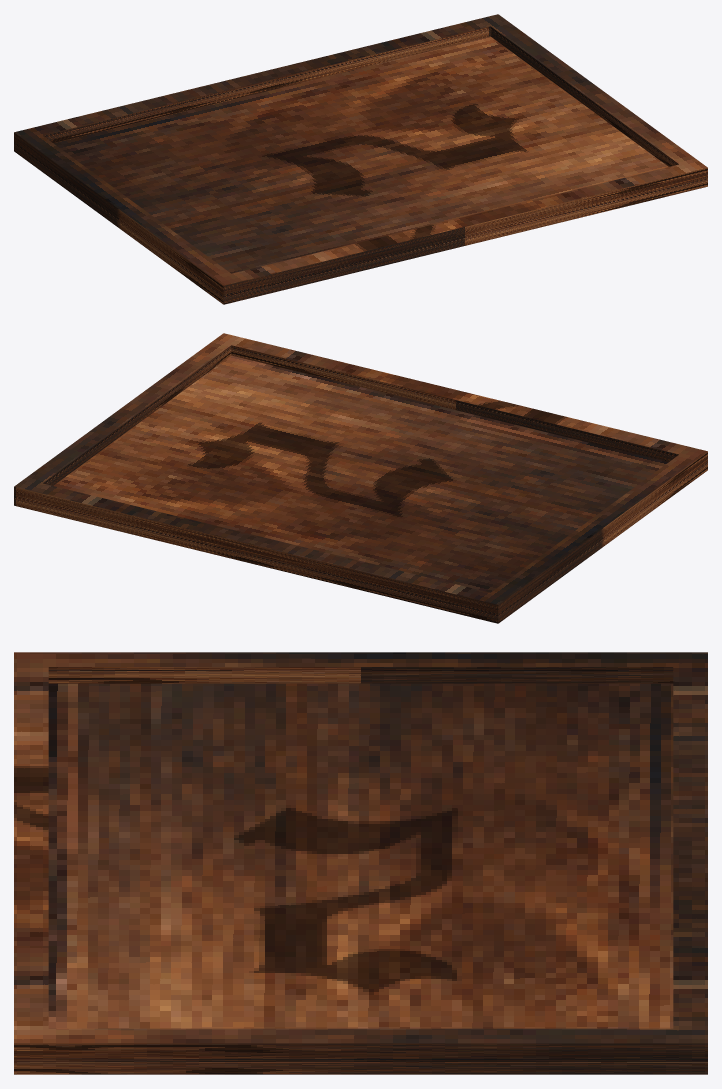
Rendered from door_2.glb.
3 renders of one model, top to bottom at view 1: azimuth 30°, elevation 25°; view 2: azimuth 150°, elevation 25°; view 3: azimuth 270°, elevation 25°, orthographic. The views are drawn at different scales.
Visible parts, largest first — view 1: Cube; view 2: Cube; view 3: Cube.
Part boxes in pixels (x1,y1,x2,y2): Cube: (14,14,707,304); Cube: (14,333,707,623); Cube: (14,652,707,1074).
Size of the model in its own units: 4 by 0.15 by 3.
1 material, 1 textured.
